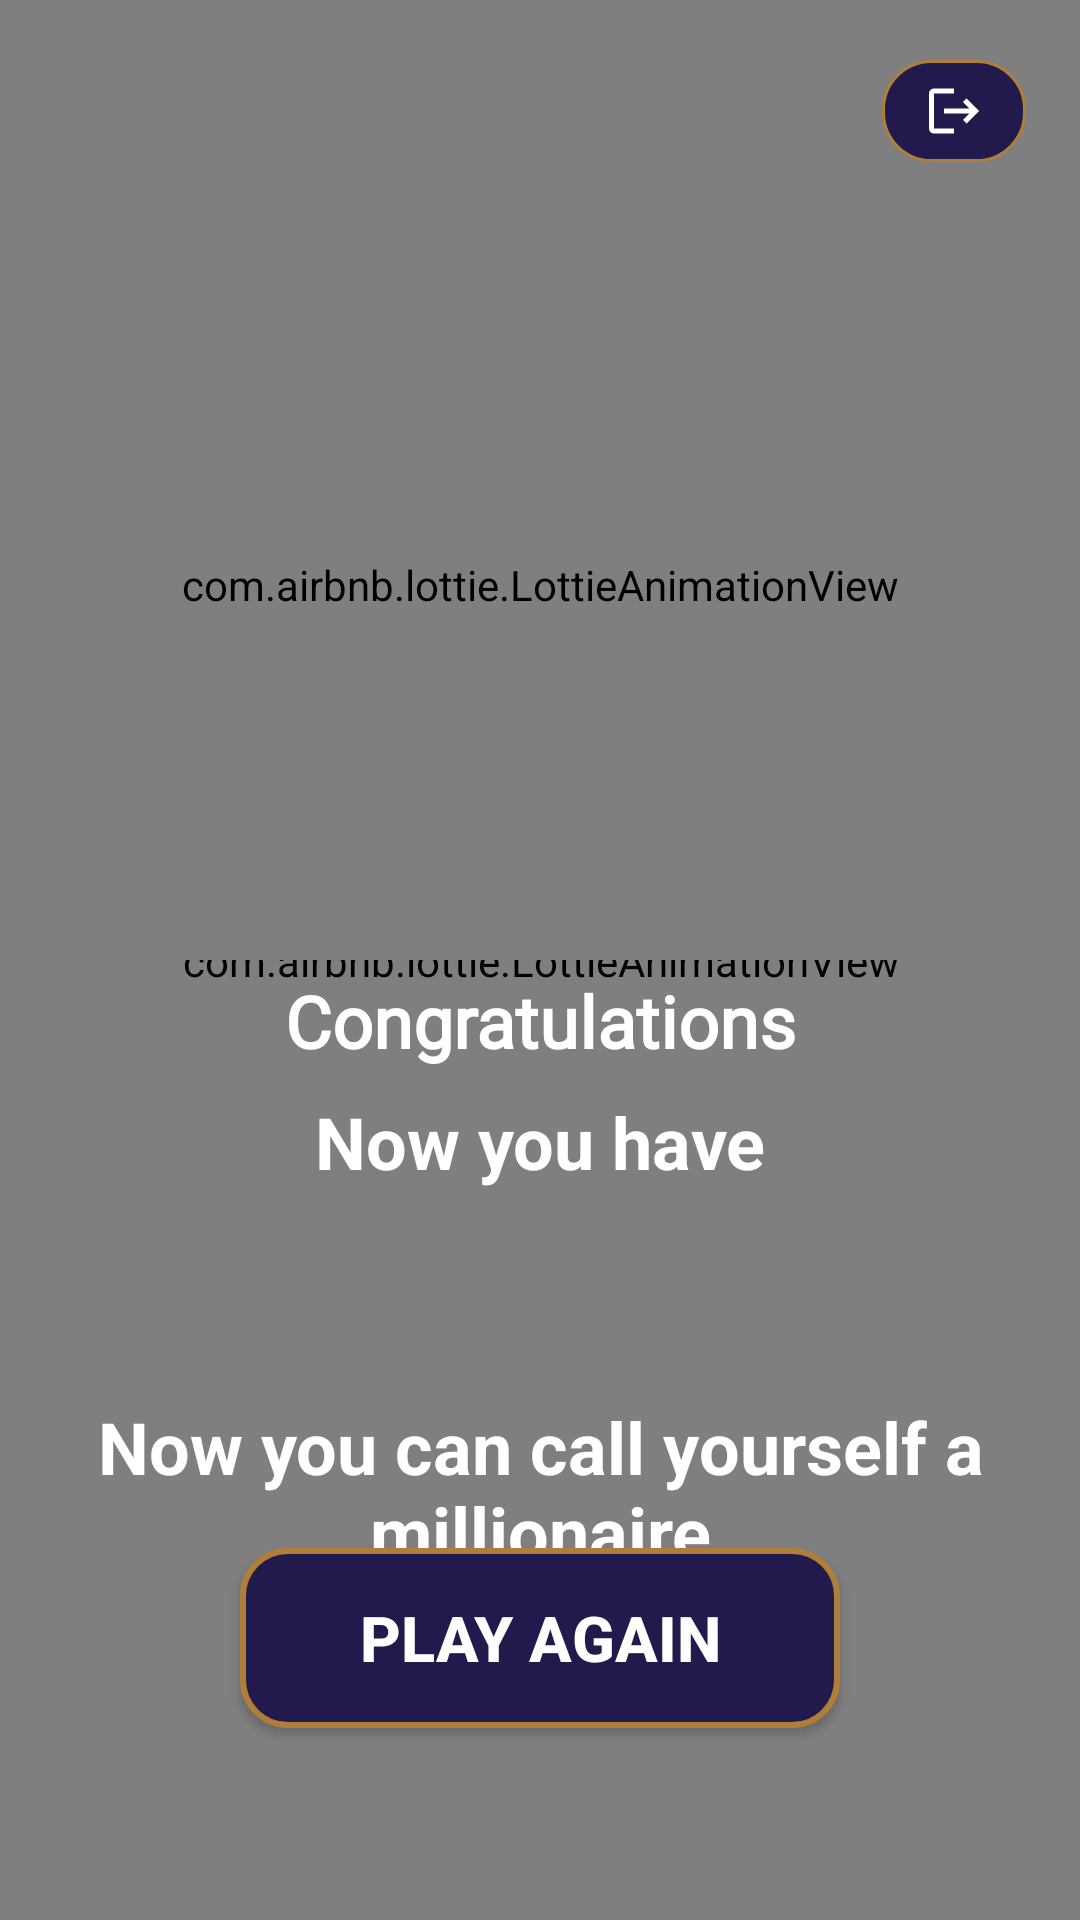

Named icons in this screenshot (1080x1920) and their bounding boxes, (x1, y1, x2, y2):
quit: (882, 60, 1026, 162)
